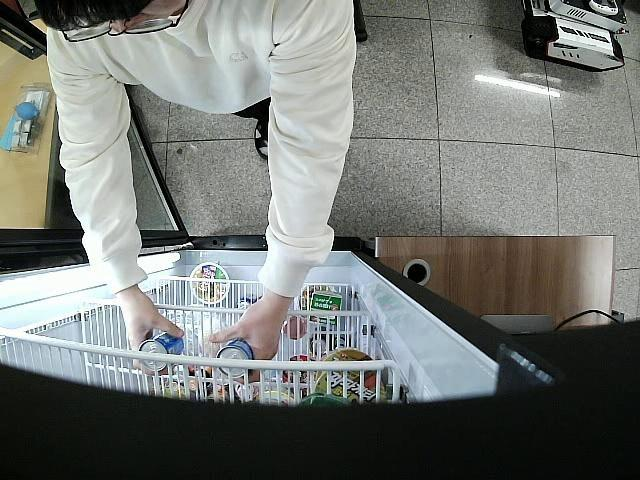15_letsbe: (140, 331, 184, 370), (216, 338, 254, 378)
